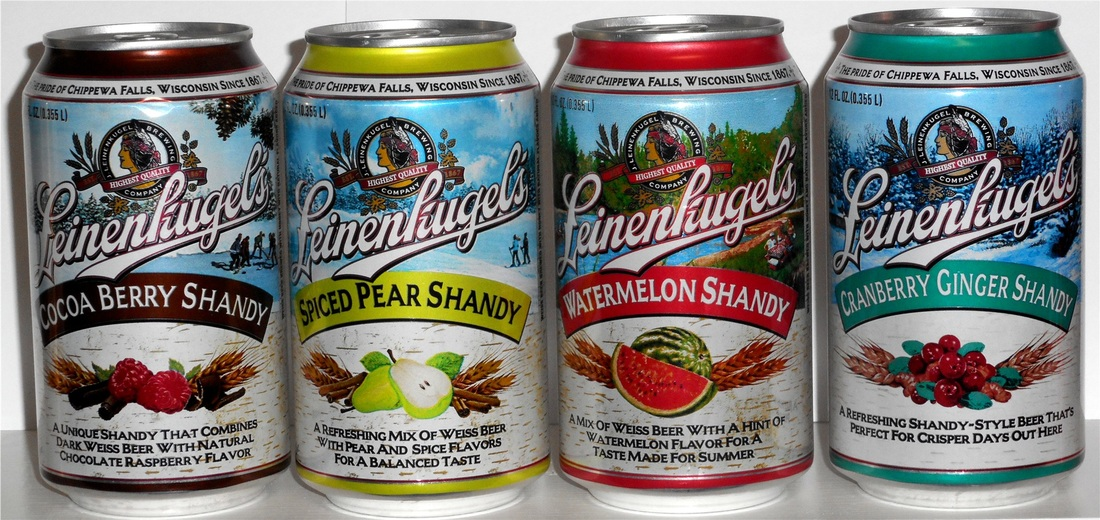beer can: (18, 12, 299, 507), (545, 16, 824, 513), (821, 1, 1088, 502), (293, 16, 545, 495)
